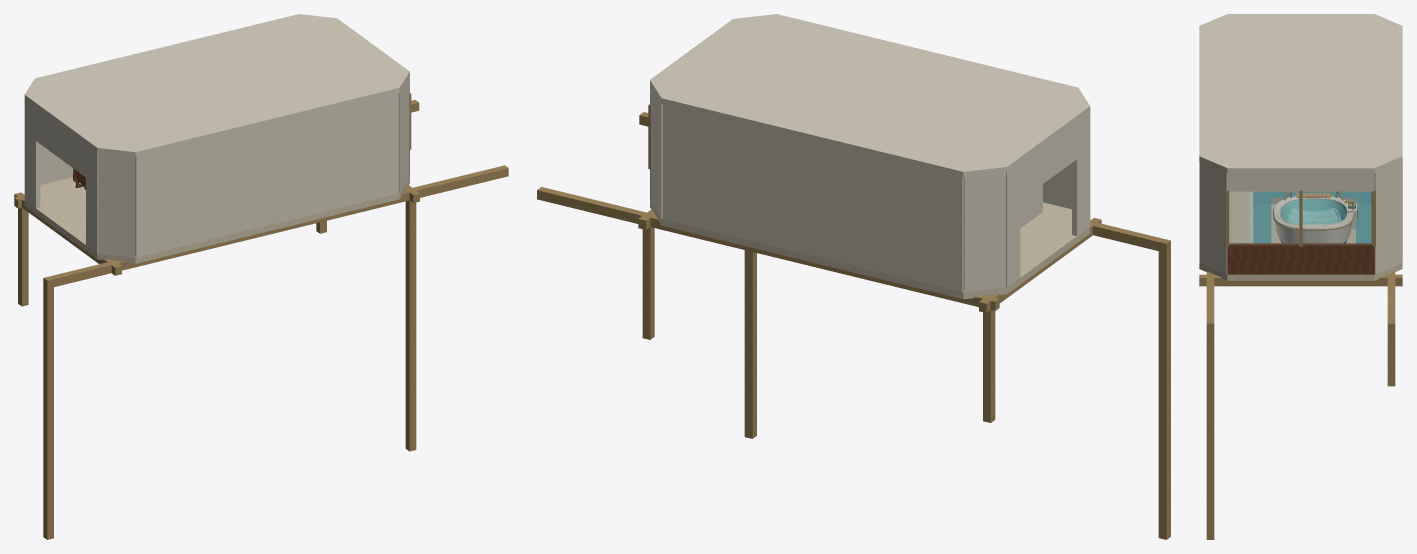
File: D04_PORT_AFT_HOME_924_r001.glb
3 renders of one model, left to right at view 1: azimuth 30°, elevation 25°; view 2: azimuth 150°, elevation 25°; view 3: azimuth 270°, elevation 25°, orthographic. The views are drawn at different scales.
Visible parts, largest first — view 1: PA924_D04SH919_Roof, PA924_D04SH919_Shell_7, PA924_D04SH919_Floor, PA924_D04SH919_Shell_0, PA924_D04SH919_FloorCross_0, PA924_D04SH919_Pier_15, PA924_D04SH919_Pier_13, PA924_D04SH919_EntryHeader, PA924_D04SH919_EntryWall_1, PA924_D04SH919_EntryWall_0, PA924_D04SH919_Shell_6, PA924_D04SH919_Pier_14 (+1 smaller); view 2: PA924_D04SH919_Roof, PA924_D04SH919_Shell_3, PA924_D04SH919_Floor, PA924_D04SH919_Shell_2, PA924_D04SH919_Pier_13, PA924_D04SH919_FloorCross_1, PA924_D04SH919_Pier_15, PA924_D04SH919_EntryHeader, PA924_D04SH919_EntryWall_0, PA924_D04SH919_EntryWall_1, PA924_D04SH919_Shell_4, PA924_D04SH919_Pier_16 (+3 smaller); view 3: PA924_D04SH919_Roof, PA924_D04SH919_GardenGlass, PA924_D04SH919_GardenDado, PA924_D04SH919_Shell_4, PA924_D04SH919_Shell_6, PA924_D04SH919_GardenHead, PA924_D04SH919_Floor, PA924_ReservedAquaticRest__Hollow continuous basin shell wit, PA924_D04SH919_Water_0, PA924_D04SH919_Pier_15, PA924_D04SH919_Long_-29.35, PA924_ReservedAquaticRest__WaterSurface_VisualOnly (+5 smaller).
Boxes of the visible parts, <box> form: PA924_D04SH919_Roof: <box>24,14,409,157</box>; PA924_D04SH919_Shell_7: <box>135,93,398,257</box>; PA924_D04SH919_Floor: <box>24,177,409,263</box>; PA924_D04SH919_Shell_0: <box>98,153,135,257</box>; PA924_D04SH919_FloorCross_0: <box>43,165,508,288</box>; PA924_D04SH919_Pier_15: <box>405,188,416,451</box>; PA924_D04SH919_Pier_13: <box>43,276,53,539</box>; PA924_D04SH919_EntryHeader: <box>36,108,85,177</box>; PA924_D04SH919_EntryWall_1: <box>24,100,40,208</box>; PA924_D04SH919_EntryWall_0: <box>86,145,98,253</box>; PA924_D04SH919_Shell_6: <box>398,77,409,192</box>; PA924_D04SH919_Pier_14: <box>18,207,28,306</box>; PA924_D04SH919_Roof: <box>650,14,1090,177</box>; PA924_D04SH919_Shell_3: <box>662,104,963,291</box>; PA924_D04SH919_Floor: <box>650,200,1090,299</box>; PA924_D04SH919_Shell_2: <box>963,173,1005,292</box>; PA924_D04SH919_Pier_13: <box>1158,240,1170,539</box>; PA924_D04SH919_FloorCross_1: <box>537,187,999,310</box>; PA924_D04SH919_Pier_15: <box>744,250,756,438</box>; PA924_D04SH919_EntryHeader: <box>1020,122,1076,200</box>; PA924_D04SH919_EntryWall_0: <box>1072,112,1090,235</box>; PA924_D04SH919_EntryWall_1: <box>1006,163,1020,287</box>; PA924_D04SH919_Shell_4: <box>650,87,662,218</box>; PA924_D04SH919_Pier_16: <box>642,212,654,339</box>; PA924_D04SH919_Roof: <box>1199,14,1402,173</box>; PA924_D04SH919_GardenGlass: <box>1229,192,1371,244</box>; PA924_D04SH919_GardenDado: <box>1227,243,1374,274</box>; PA924_D04SH919_Shell_4: <box>1371,162,1401,274</box>; PA924_D04SH919_Shell_6: <box>1200,162,1230,274</box>; PA924_D04SH919_GardenHead: <box>1227,173,1374,191</box>; PA924_D04SH919_Floor: <box>1199,191,1402,280</box>; PA924_ReservedAquaticRest__Hollow continuous basin shell wit: <box>1273,196,1353,243</box>; PA924_D04SH919_Water_0: <box>1253,191,1371,243</box>; PA924_D04SH919_Pier_15: <box>1206,274,1214,539</box>; PA924_D04SH919_Long_-29.35: <box>1199,274,1402,286</box>; PA924_ReservedAquaticRest__WaterSurface_VisualOnly: <box>1281,200,1345,224</box>.
Bounding box in the file's own units: 19.04 × 14.58 × 7.2.
Materials: 40 (21 with a texture image).
